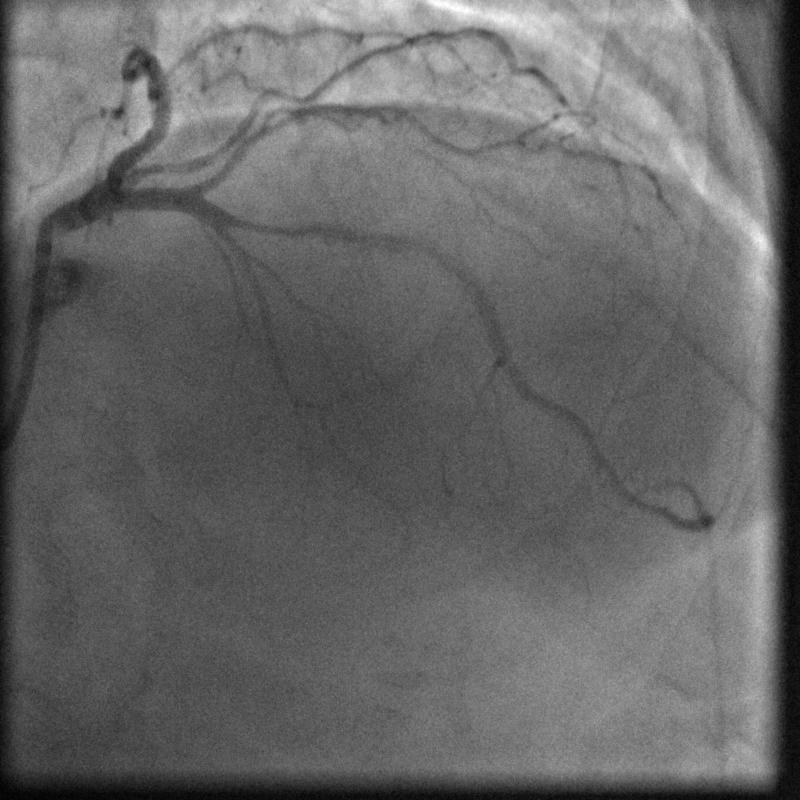Stenosis: (247, 203, 309, 241)
